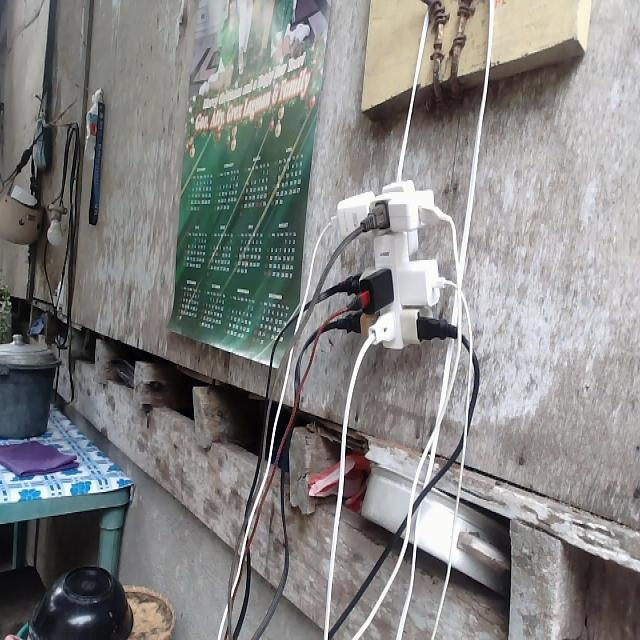-: (326, 176, 464, 352)
